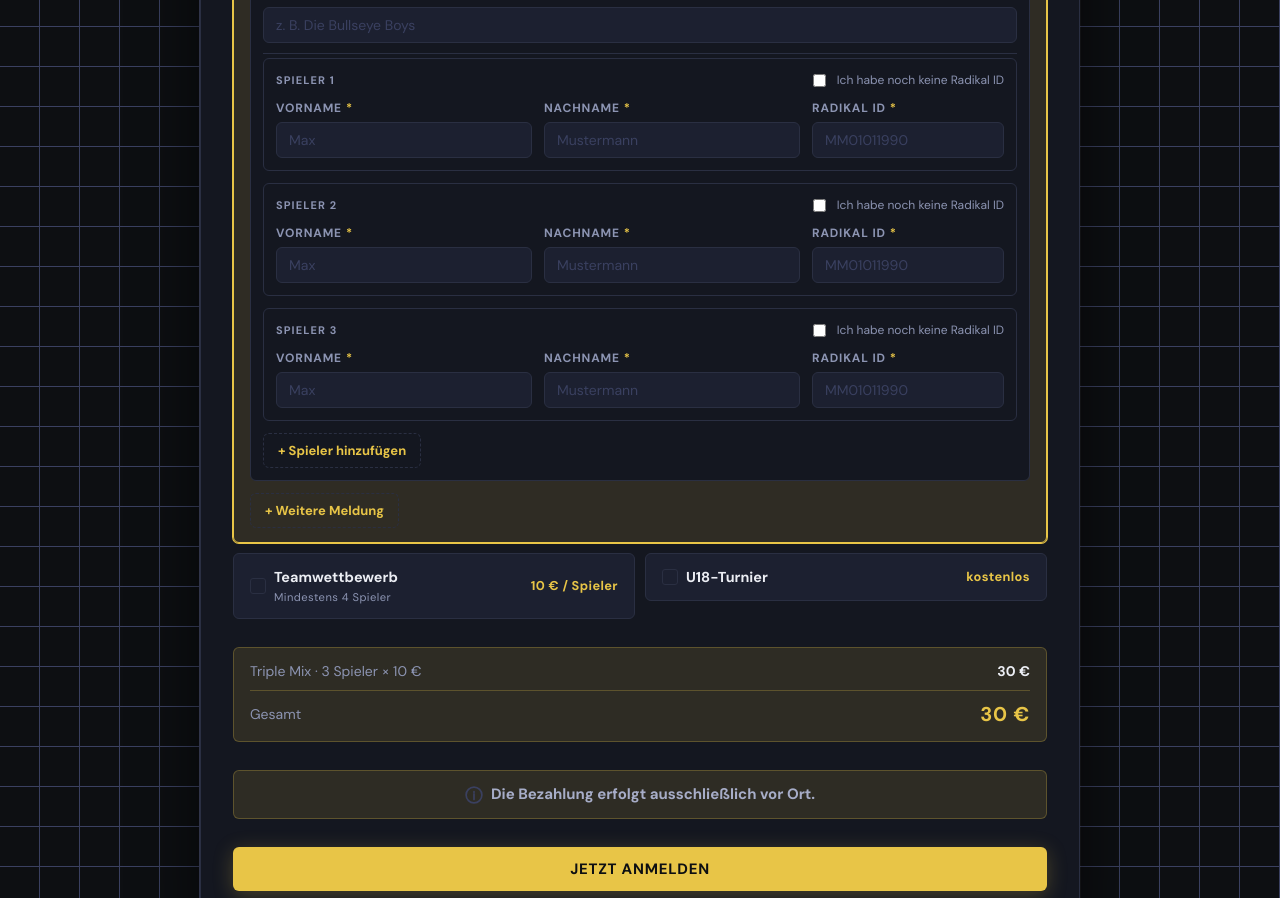
Test: AnmeldungComponent › Triple Mix: 3 Pflichtzeilen + optionale 4. Zeile mit Ersatz-Hinweis, keine 5.
(page scrolled)
Click the button with class "spieler-add".
click(342, 450)  # box [263, 433, 421, 468]
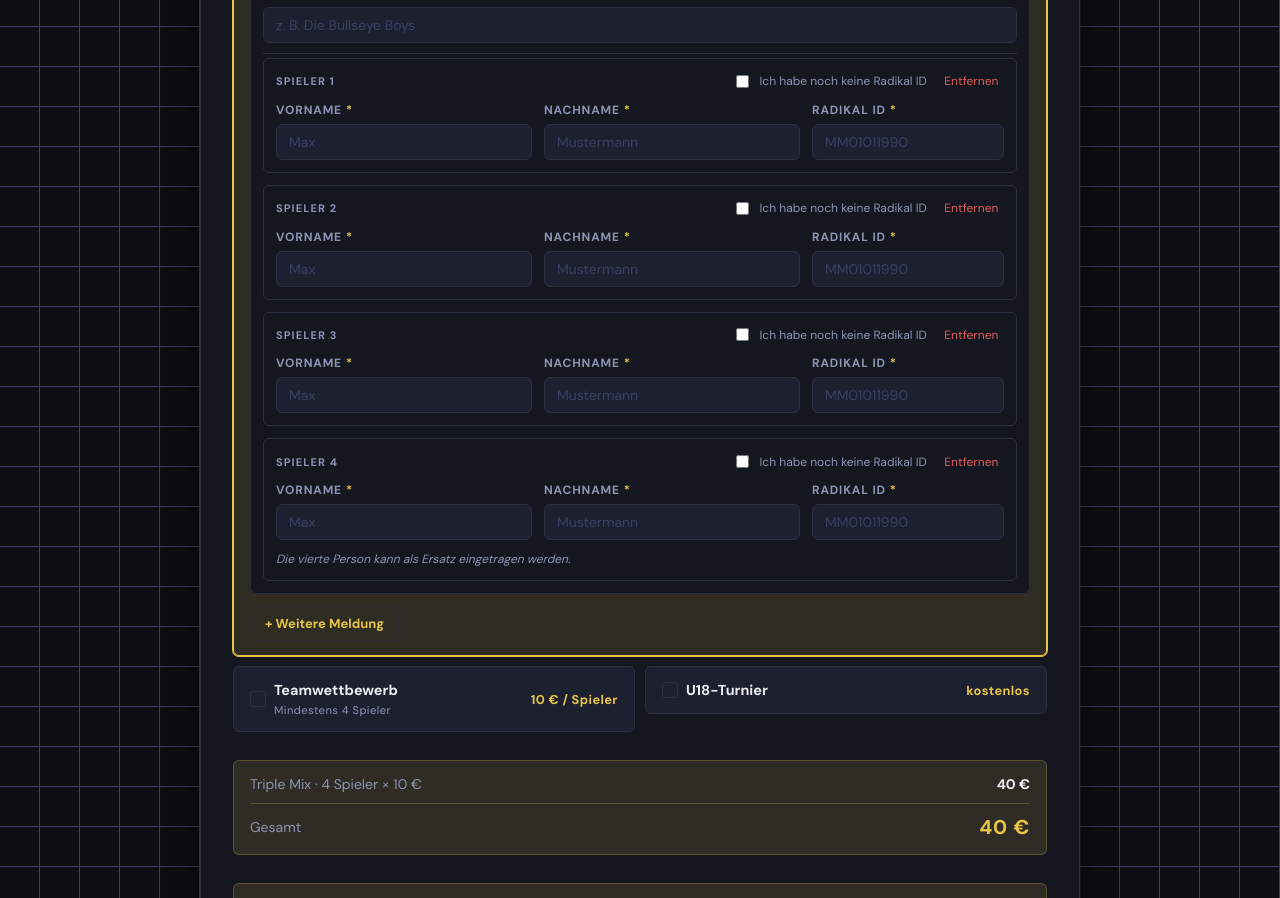
expect the text "Die vierte Person kann als Ersatz eingetragen werden." is shown: met, box [276, 551, 570, 567]
expect the button with class "spieler-add" is gone: met
